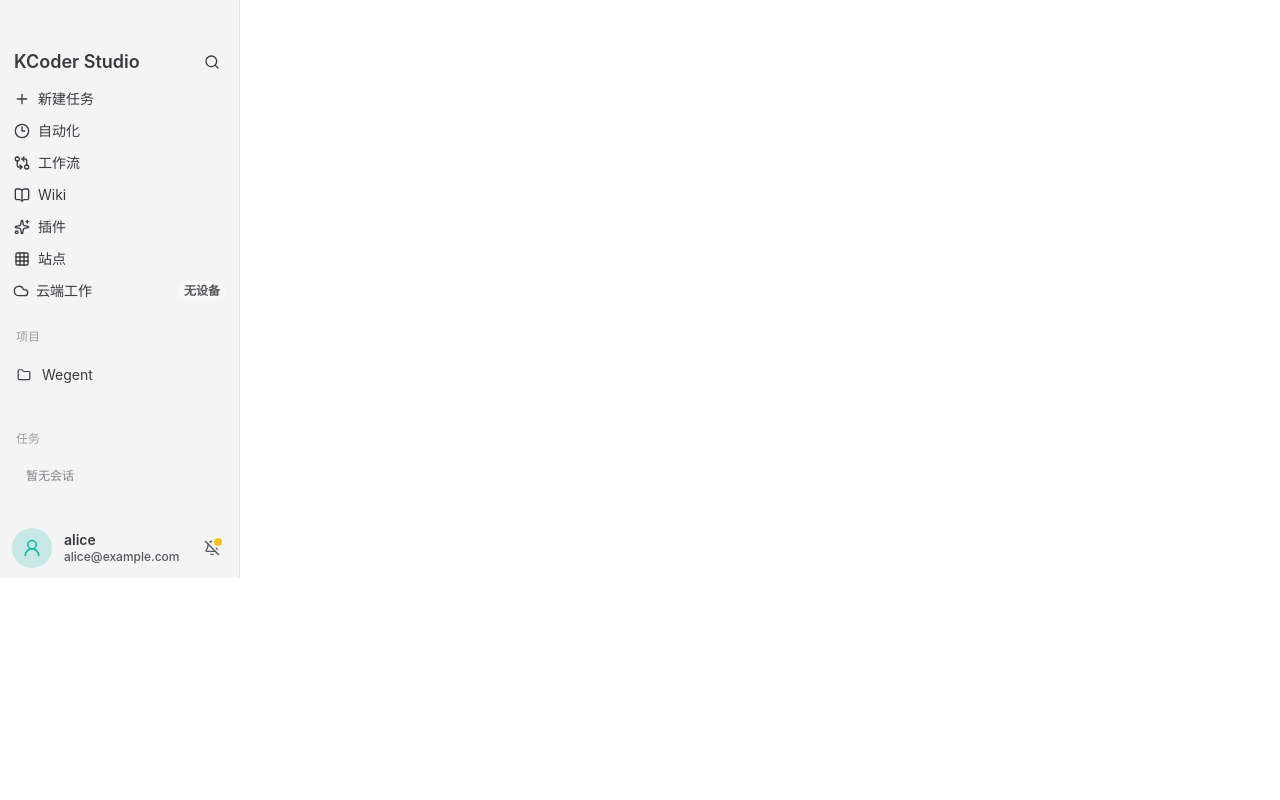
Test: DesktopSidebar device › treats an empty cloud device list as an add-device state instead of an error
The image size is (1280, 800).
Click the button with test id "sidebar-cloud-connection-button" at (135, 291), box [36,276,234,306]
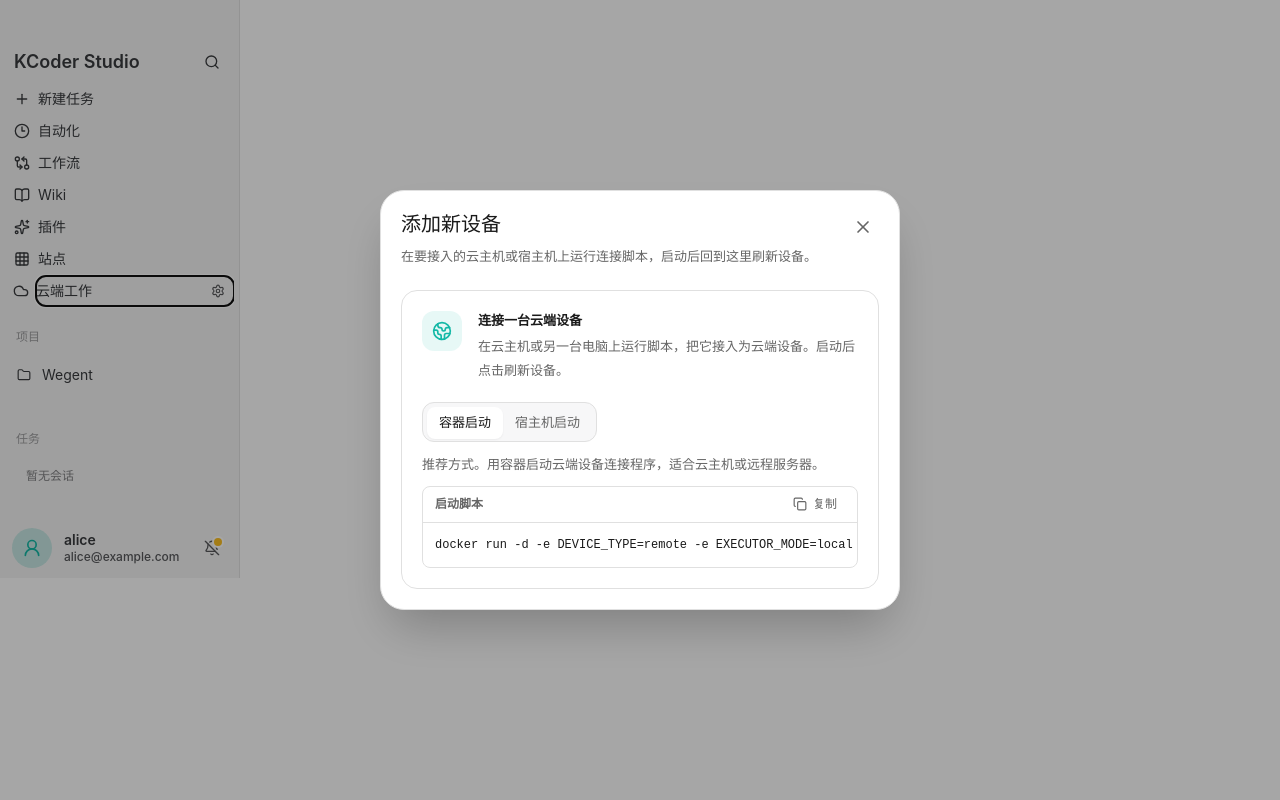
expect the dialog with test id "standalone-folder-project-dialog" shows "添加新设备": met, box [401,212,501,236]
